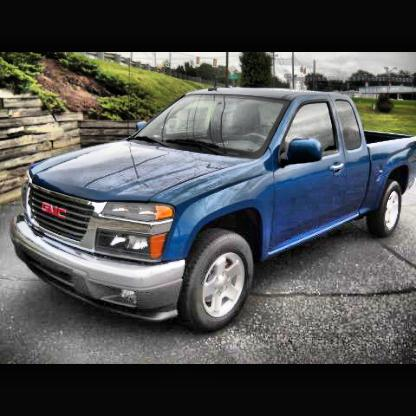GMC Canyon Extended Cab 2012: (18, 85, 416, 326)
